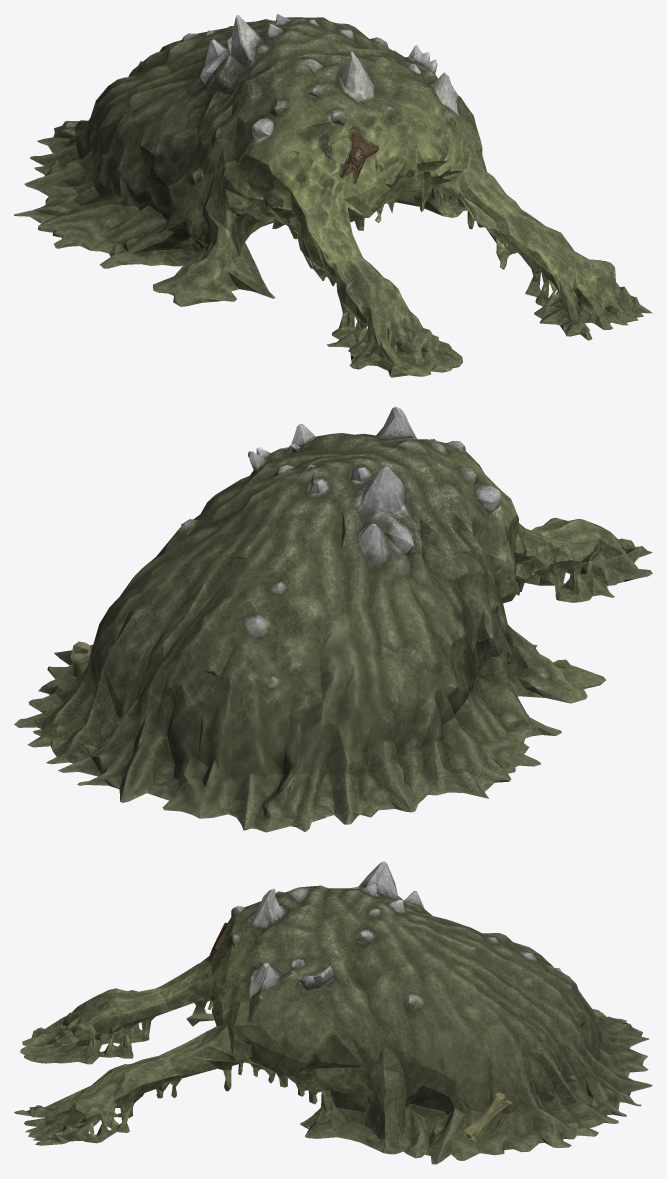
File: SovietSlime.glb
3 renders of one model, top to bottom at view 1: azimuth 30°, elevation 25°; view 2: azimuth 150°, elevation 25°; view 3: azimuth 270°, elevation 25°, orthographic. The views are drawn at different scales.
Parts seen in each view (by area): view 1: output_unwrapped; view 2: output_unwrapped; view 3: output_unwrapped.
Part boxes in pixels (x1=…): output_unwrapped: x1=14, y1=14, x2=652, y2=377; output_unwrapped: x1=14, y1=406, x2=652, y2=832; output_unwrapped: x1=14, y1=861, x2=652, y2=1164.
Size of the model in its own units: 1.32 by 0.6238 by 1.92.
1 material, 1 textured.
